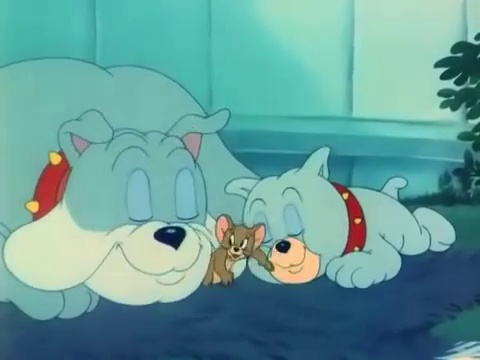spike: (6, 109, 221, 309)
